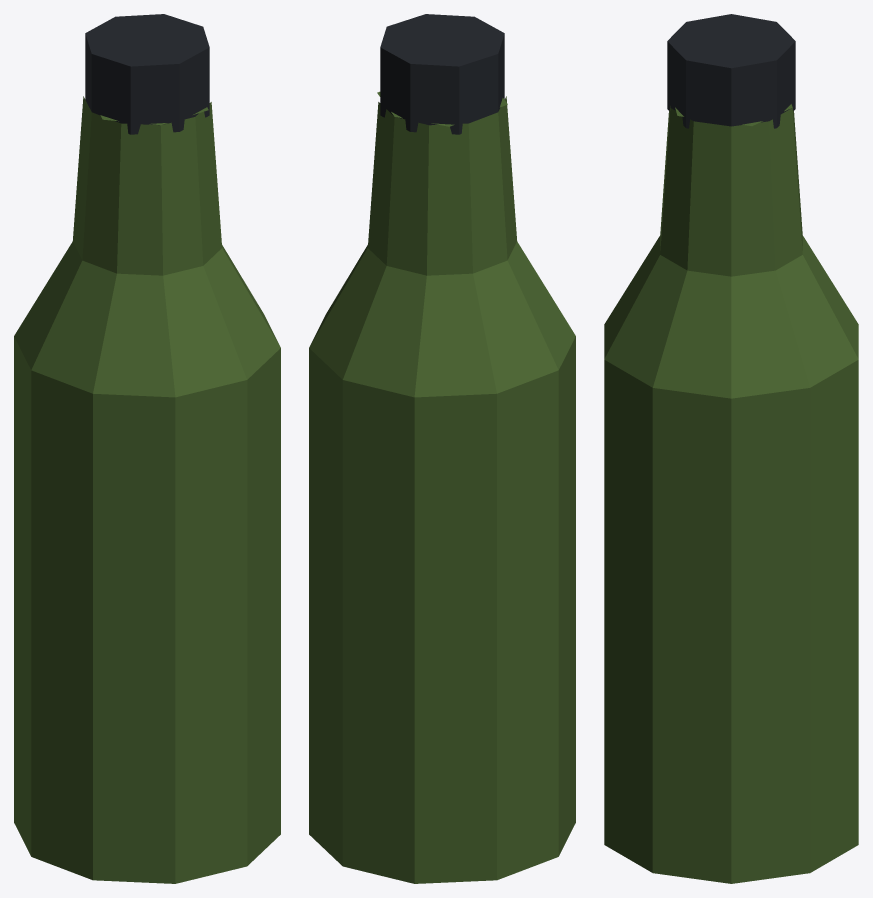
The model's file is novanian-grog.lod.glb.
3 views of the same model, side by side, from view 1: azimuth 30°, elevation 25°; view 2: azimuth 150°, elevation 25°; view 3: azimuth 270°, elevation 25° (orthographic).
Parts seen in each view (by area): view 1: m; view 2: m; view 3: m.
Part boxes in pixels (x1,y1,x2,y2): m: (14,14,280,883); m: (309,14,575,883); m: (604,14,858,883).
Size of the model in its own units: 0.05 by 0.162 by 0.0475.
